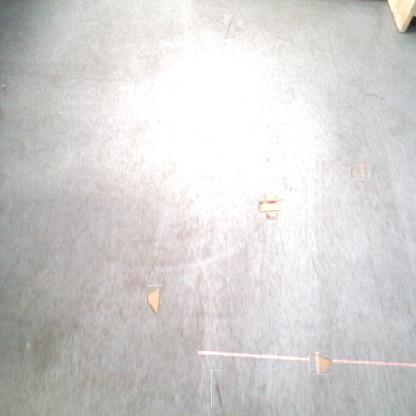dirty: (310, 352, 332, 375), (148, 285, 164, 316), (261, 196, 281, 217), (353, 164, 370, 180)
mark: (211, 370, 222, 407), (221, 16, 240, 36), (2, 85, 6, 90)
